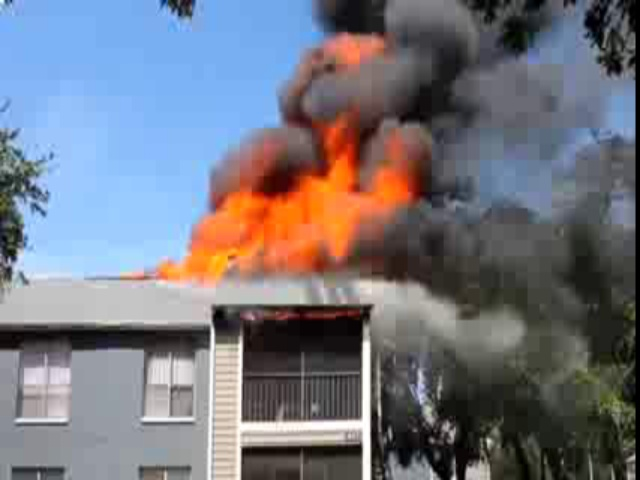fire: (186, 175, 405, 280)
